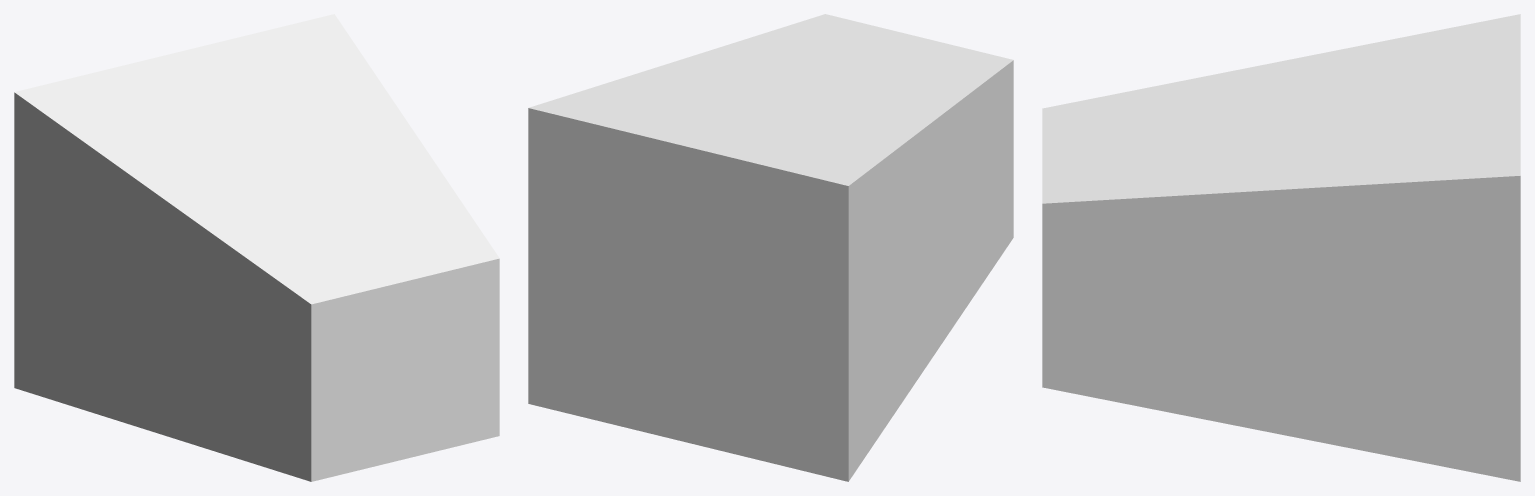
The model's file is body.glb.
3 renders of one model, left to right at view 1: azimuth 30°, elevation 25°; view 2: azimuth 150°, elevation 25°; view 3: azimuth 270°, elevation 25°, orthographic. The views are drawn at different scales.
Parts seen in each view (by area): view 1: body; view 2: body; view 3: body.
Boxes of the visible parts, box(x1,y1,x2,y2) form: body: box(14, 14, 499, 481); body: box(528, 14, 1013, 481); body: box(1042, 14, 1520, 481).
Size of the model in its own units: 0.68 by 0.6 by 0.85.
Materials: 1 (1 with a texture image).
